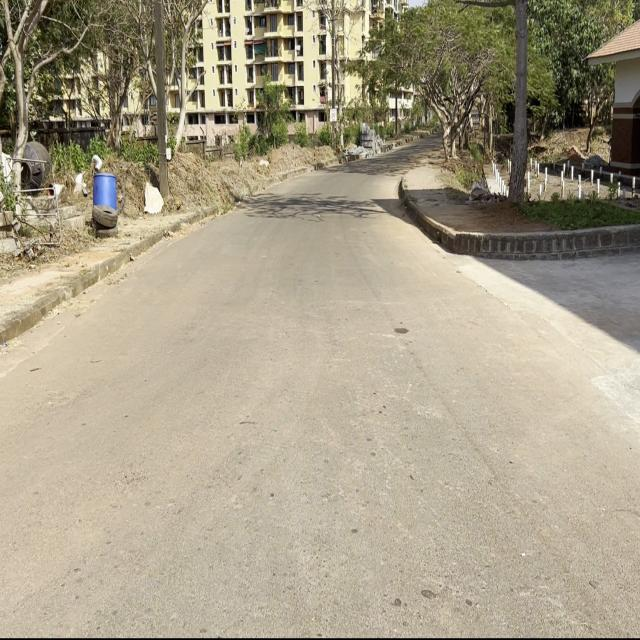Road: (0, 156, 639, 638)
